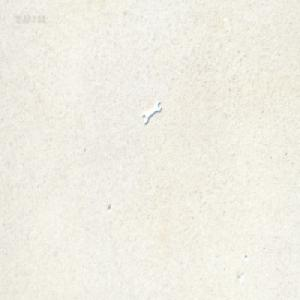Wrench: (142, 102, 162, 125)
